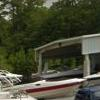Boat: (7, 61, 84, 100)
